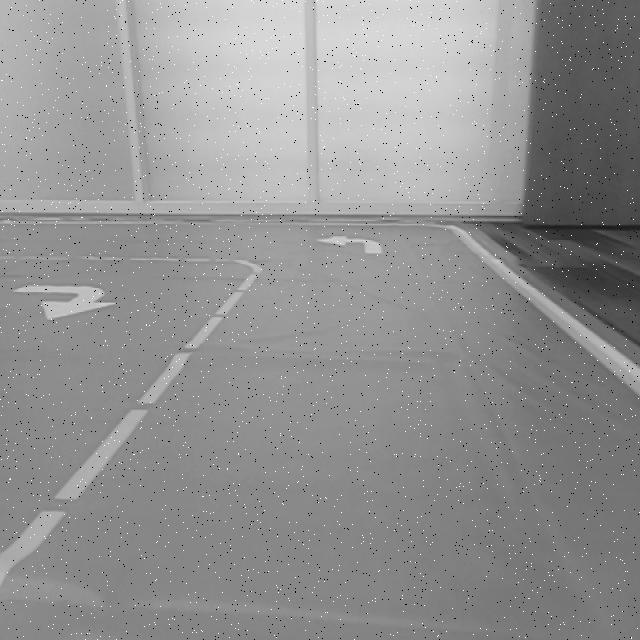left_lane: (0, 275, 258, 585)
right_lane: (461, 238, 640, 398)
